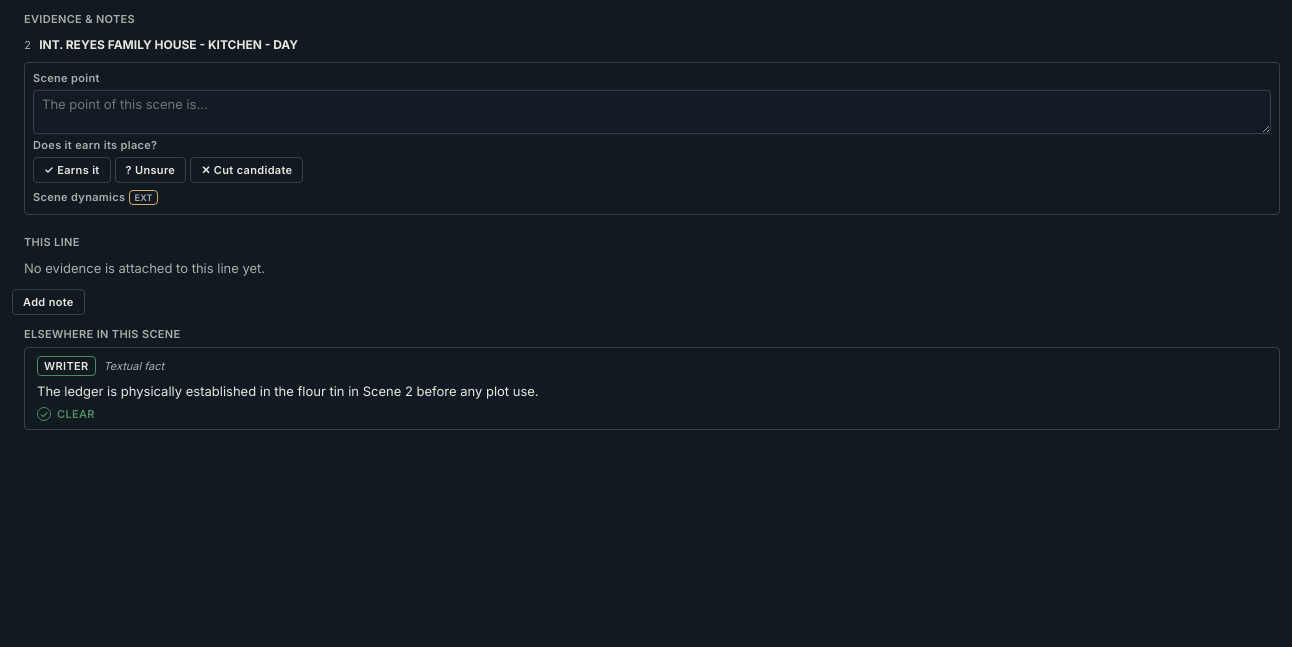
note authoring in the inspector › adds a writer note with claim type and status to the selected line
Click the button "Add note".
click(48, 302)  # box left=12, top=290, right=85, bottom=316
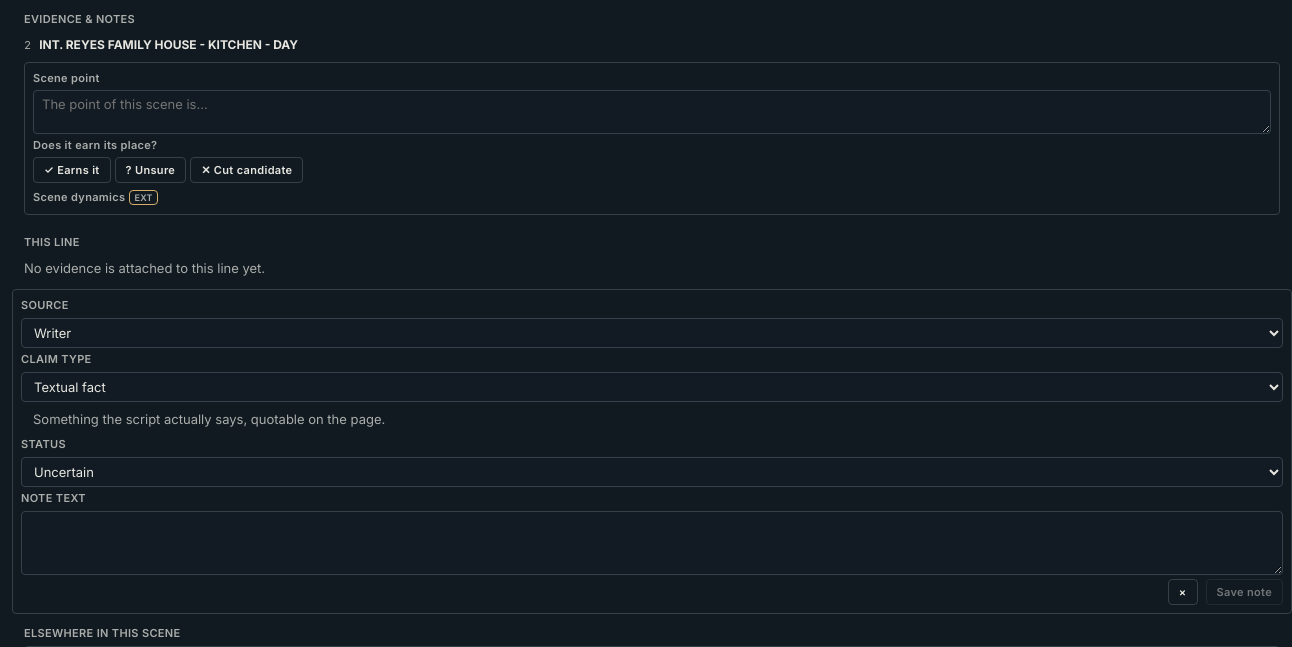
Type "Marta never answers the question." into the text box labelled "Note text".
click(652, 543); type("Marta never answers the question.")  # box left=21, top=511, right=1283, bottom=575
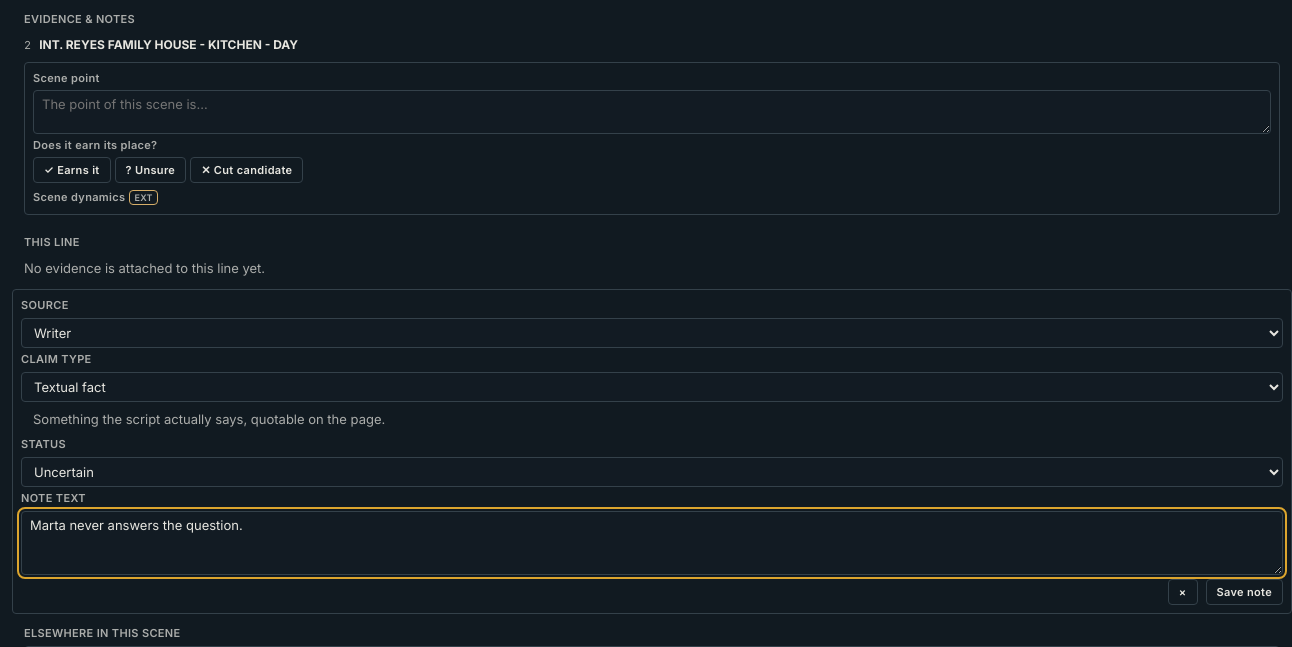
Select "Textual fact" in the dropdown labelled "Claim type" at coordinates (652, 387), box left=21, top=372, right=1283, bottom=402
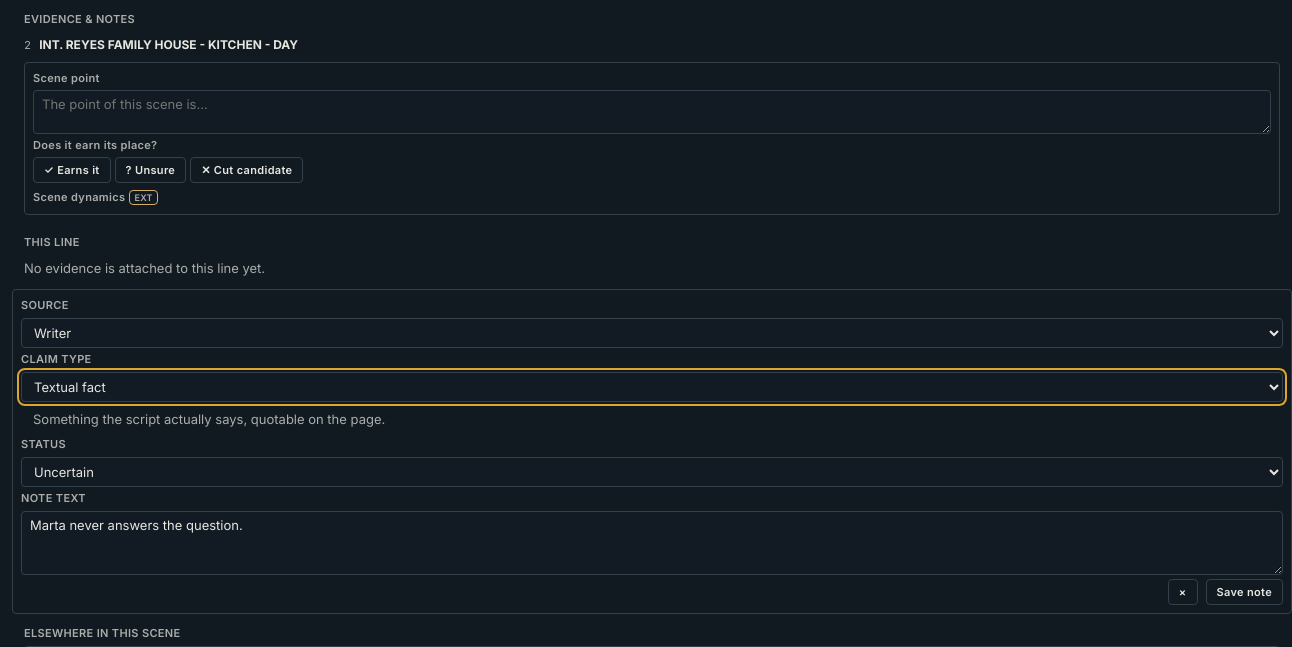
Select "Uncertain" in the dropdown labelled "Status" at coordinates (652, 472), box left=21, top=457, right=1283, bottom=487
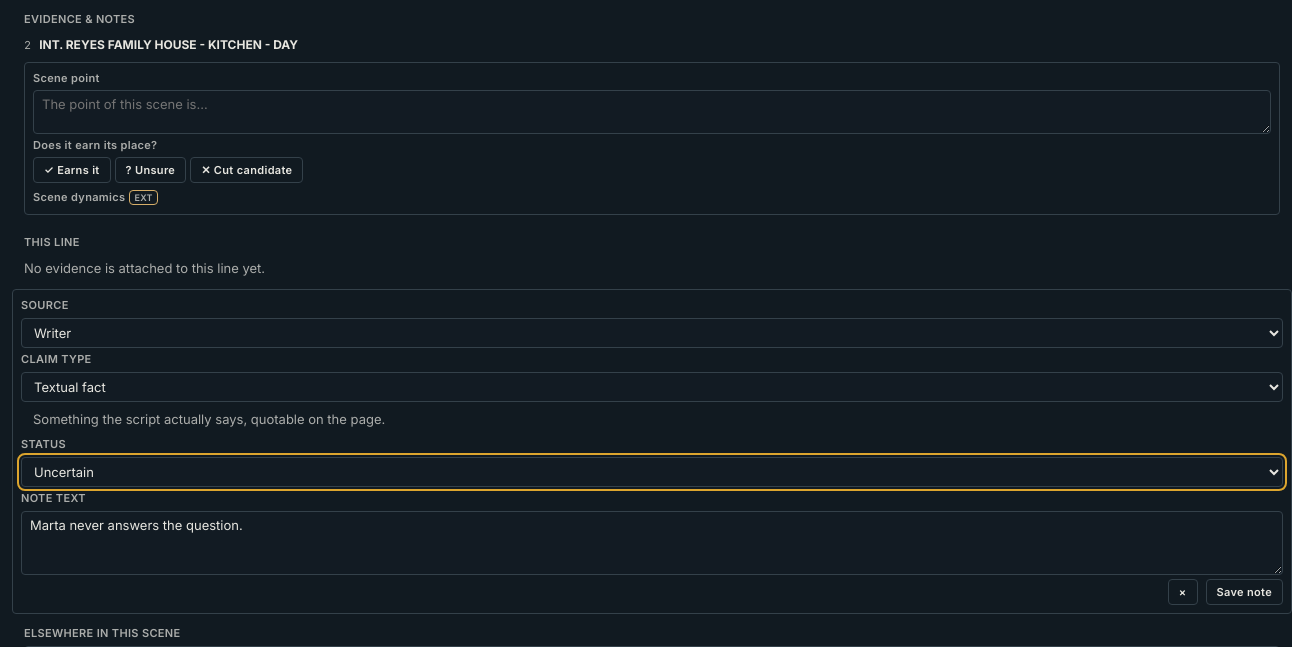
Click the button "Save note".
click(1244, 592)  # box left=1206, top=579, right=1283, bottom=605
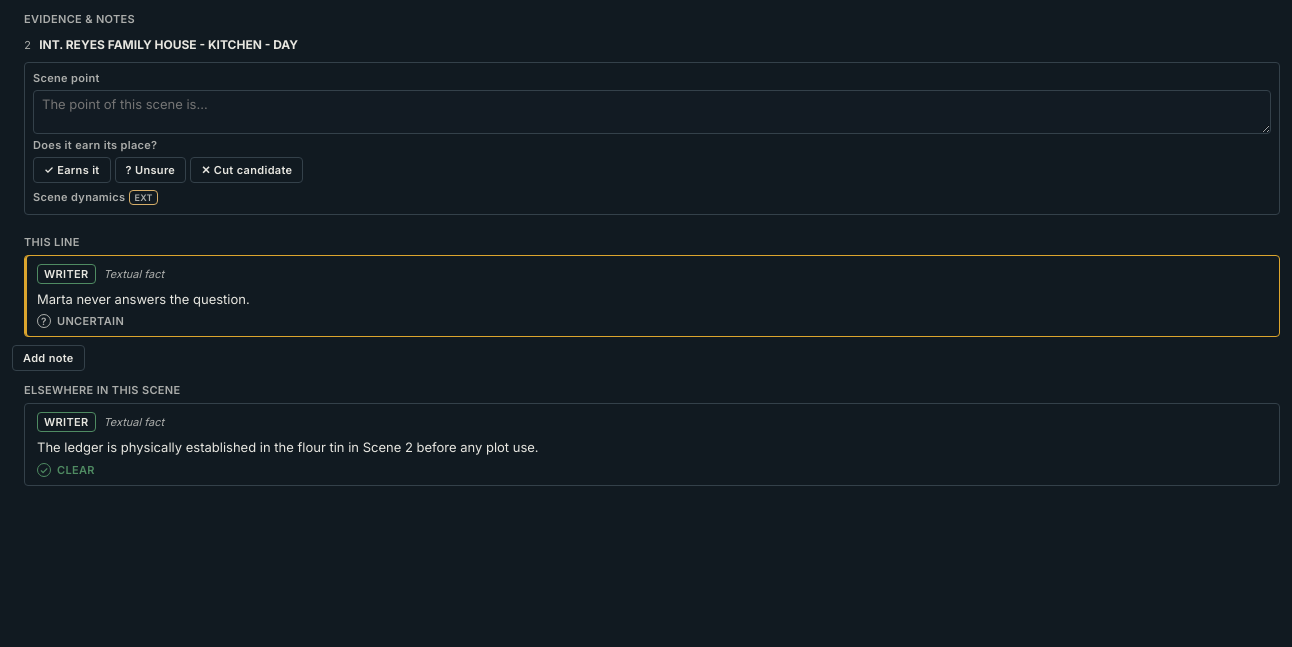
expect the text "Marta never answers the question." is shown: met, box left=37, top=291, right=250, bottom=307
